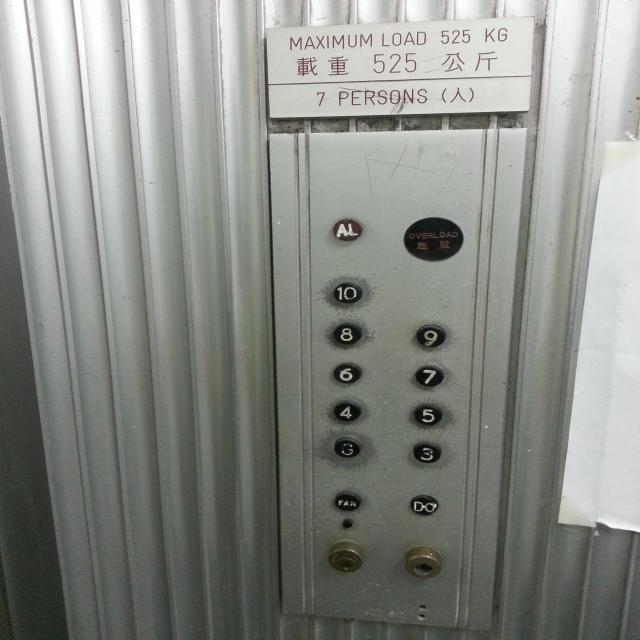10: (332, 281, 363, 304)
3: (412, 440, 442, 463)
4: (333, 398, 362, 422)
5: (413, 402, 443, 426)
6: (333, 361, 362, 384)
7: (415, 364, 444, 387)
8: (332, 322, 362, 345)
9: (414, 323, 446, 348)
AL: (332, 217, 364, 241)
DO: (409, 494, 439, 516)
G: (333, 436, 362, 458)
keyhole: (327, 538, 365, 574), (404, 545, 444, 579)
text_blur: (334, 490, 361, 511)
text_overload: (402, 215, 464, 262)
